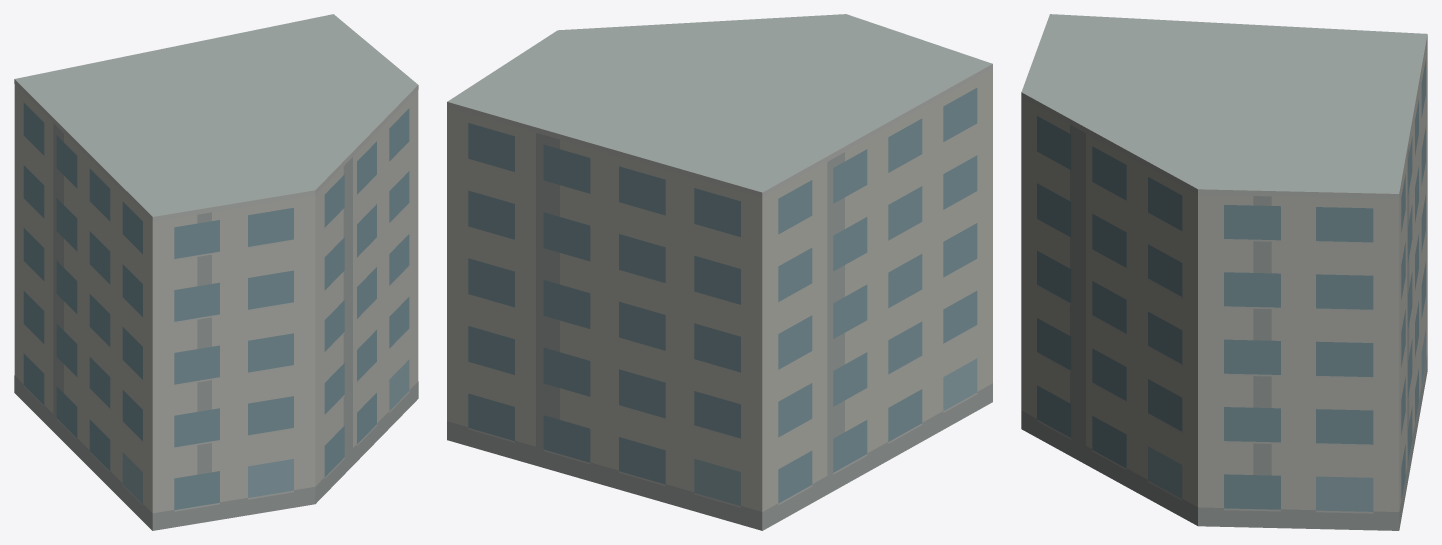
File: survey-upis-32880298.glb
The picture shows the model from 3 angles, left to right: view 1: azimuth 30°, elevation 25°; view 2: azimuth 150°, elevation 25°; view 3: azimuth 270°, elevation 25°; orthographic projection. The views are drawn at different scales.
Visible parts, largest first — view 1: survey-upis-32880298.tmp; view 2: survey-upis-32880298.tmp; view 3: survey-upis-32880298.tmp.
Boxes of the visible parts, box(x1,y1,x2,y2) form: survey-upis-32880298.tmp: box(14, 14, 418, 530); survey-upis-32880298.tmp: box(447, 14, 992, 530); survey-upis-32880298.tmp: box(1021, 14, 1427, 530).
Bounding box in the file's own units: 17.48 × 15.25 × 16.67.
